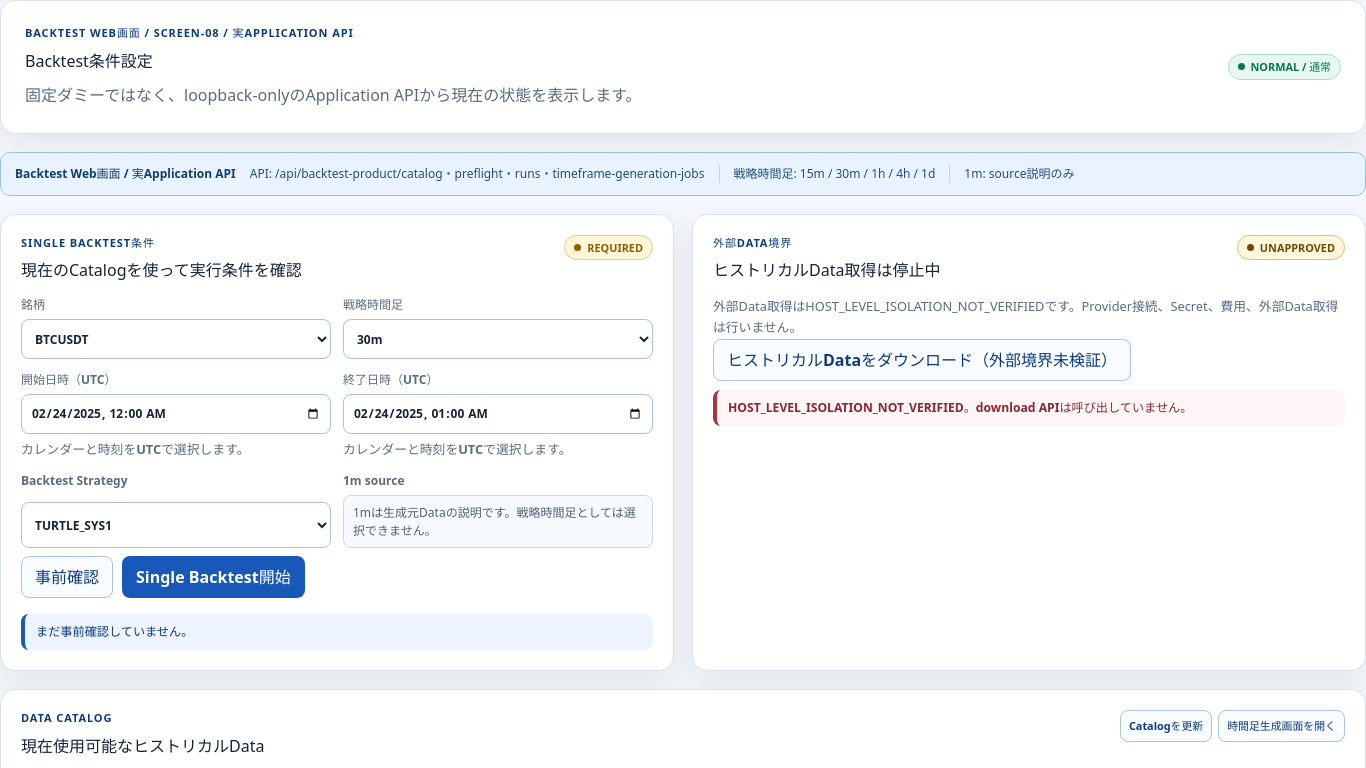
it: BacktestProduct Web Product UI › uses only the five strategy timeframes and sends the missing-data journey to the local generation API
This screenshot has width=1366, height=768.
Expected: the dropdown labelled "戦略時間足" does not show "1m", [343,319,653,359]
What coordinates should you click on to do the following:
click the button "時間足生成画面を開く"
I would click on:
 (1282, 726)
Its box is [1218,710,1345,742].
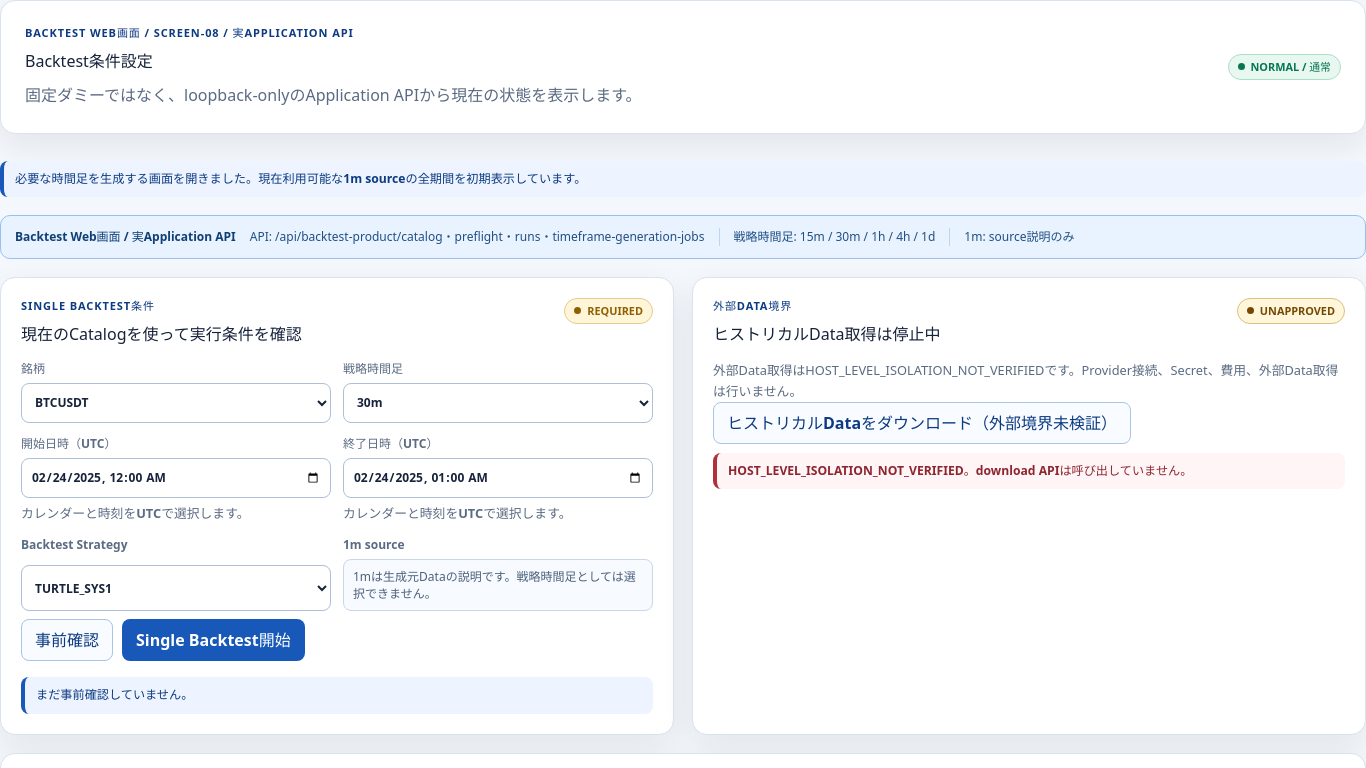
What coordinates should you click on to do the following:
click the button "事前確認"
I would click on:
 (67, 640)
Its box is [21,619,113,661].
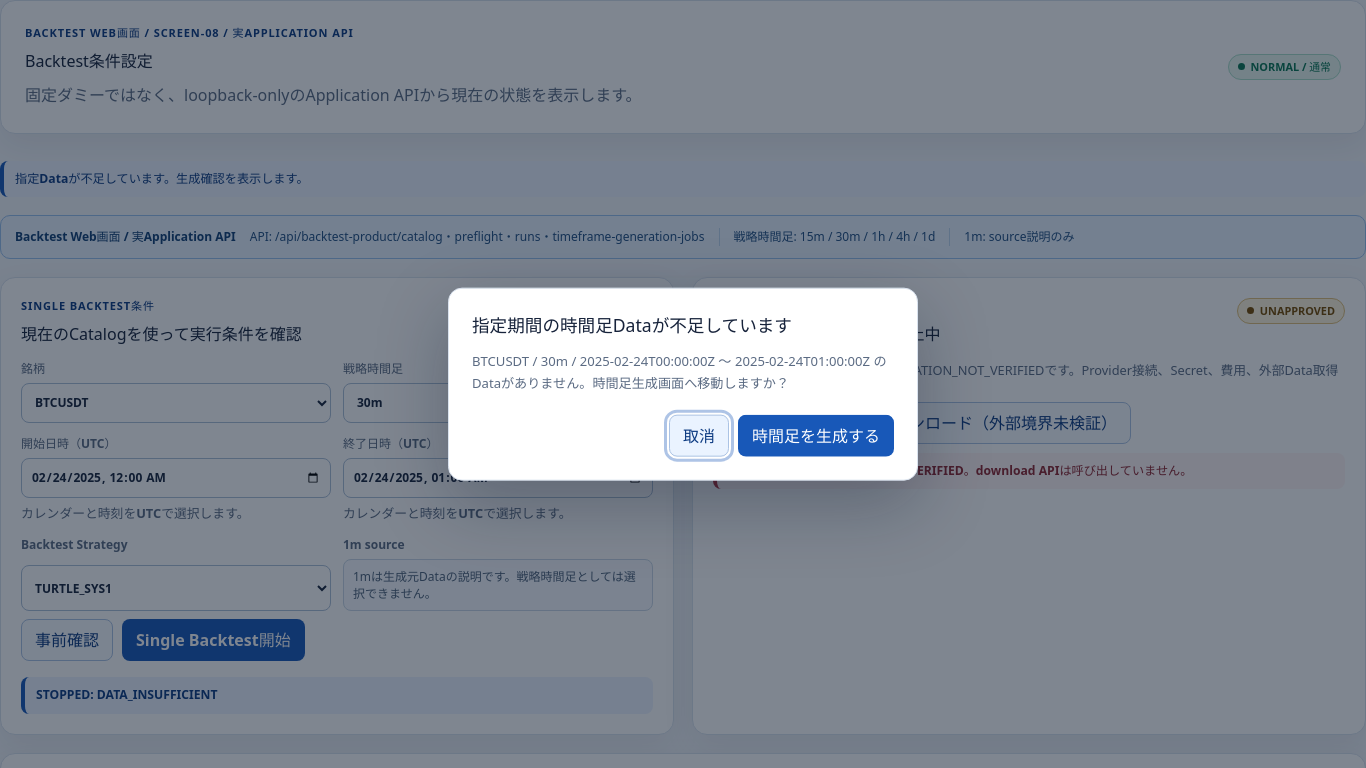
Now the dialog "指定期間の時間足Dataが不足しています" shows "BTCUSDT / 30m", box [472,352,887,392]
What coordinates should you click on to do the following:
click the button "時間足を生成する"
I would click on:
 (816, 435)
Its box is [738,414,894,456].
(page scrolled)
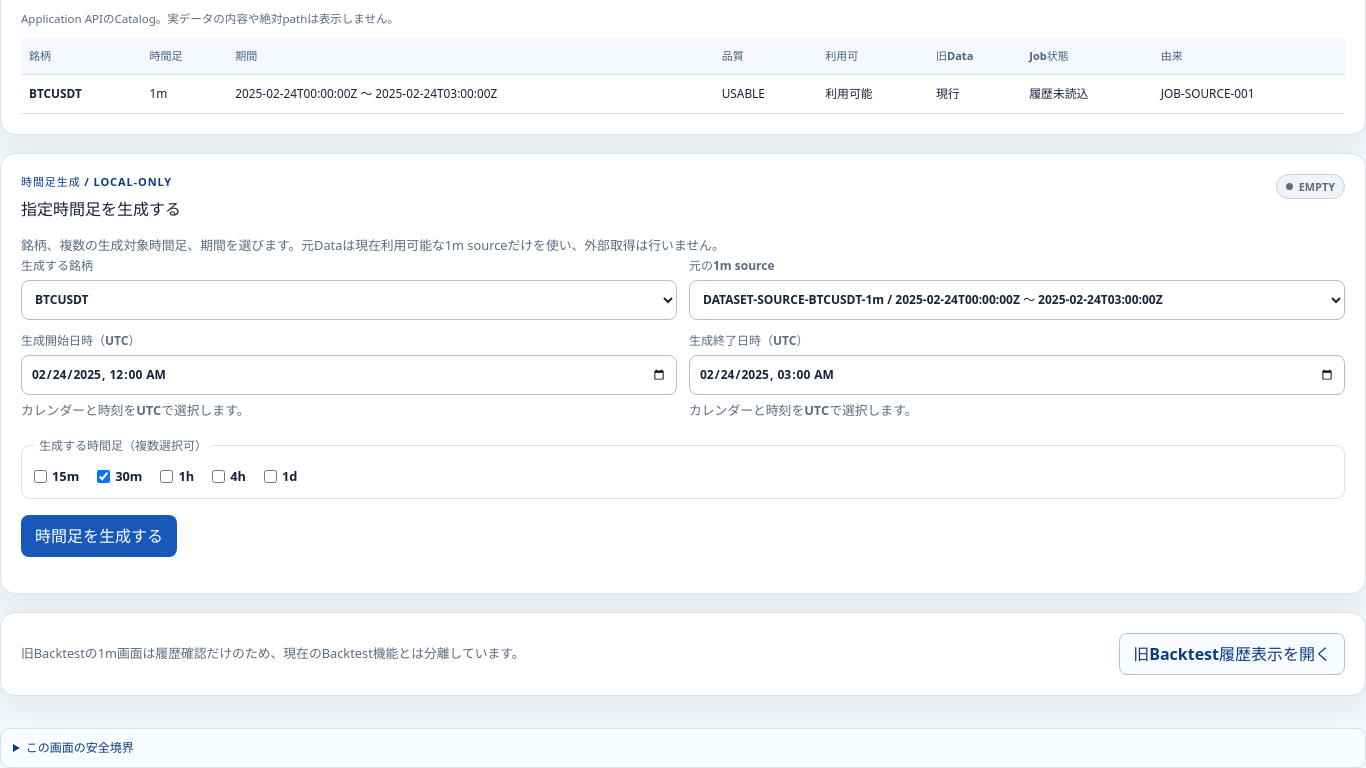
Now the element with test id "backtest-product-generation-form" is shown, box [0,153,1365,594]
Now the field labelled "生成開始日時（UTC）" holds "2025-02-24T00:00", box [21,354,677,394]
Now the field labelled "生成終了日時（UTC）" holds "2025-02-24T03:00", box [689,354,1345,394]
What coordinates should you click on to do the following:
click the button "時間足を生成する"
I would click on:
 (99, 536)
Its box is [21,515,177,557].
(page scrolled)
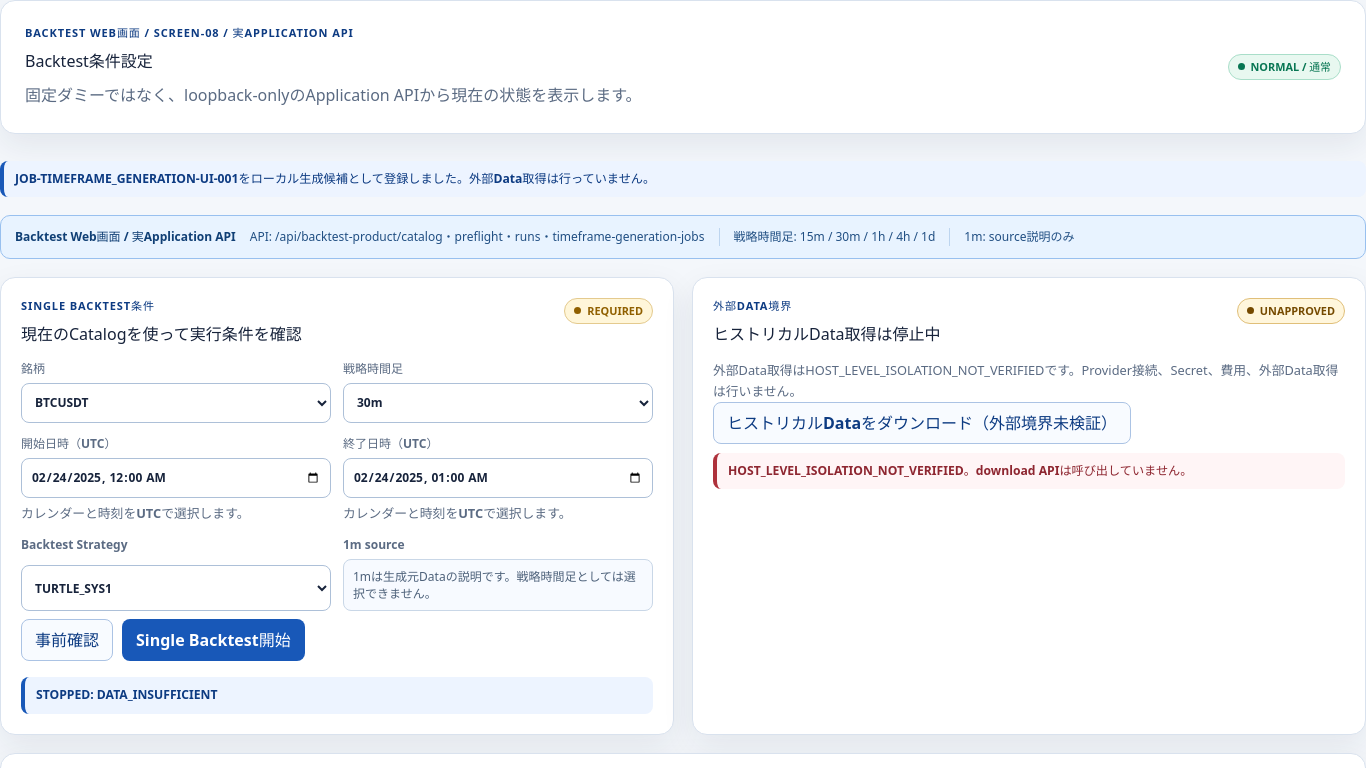
Now the text "JOB-TIMEFRAME_GENERATION-UI-001" is shown, box [15,170,655,187]
